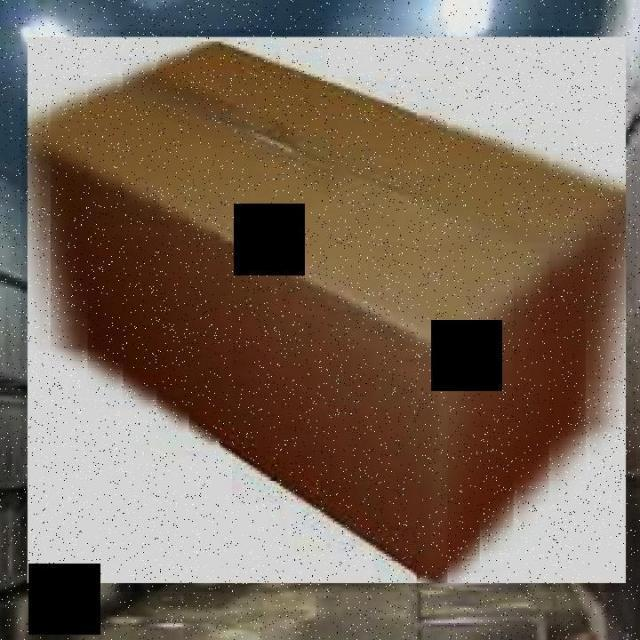box: (21, 29, 638, 592)
